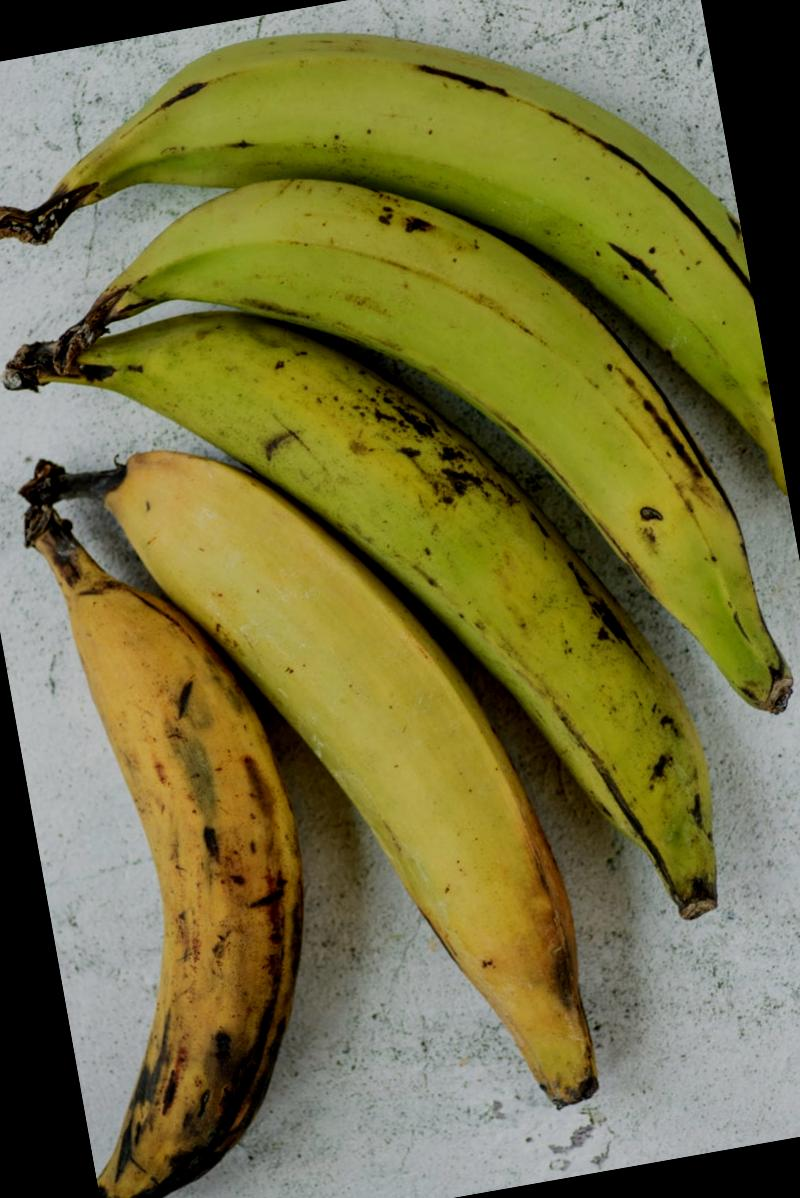Banana Ripe: (125, 0, 800, 1002), (157, 87, 800, 1003), (108, 392, 647, 1188)
Banana Rotten: (0, 493, 355, 1198)
